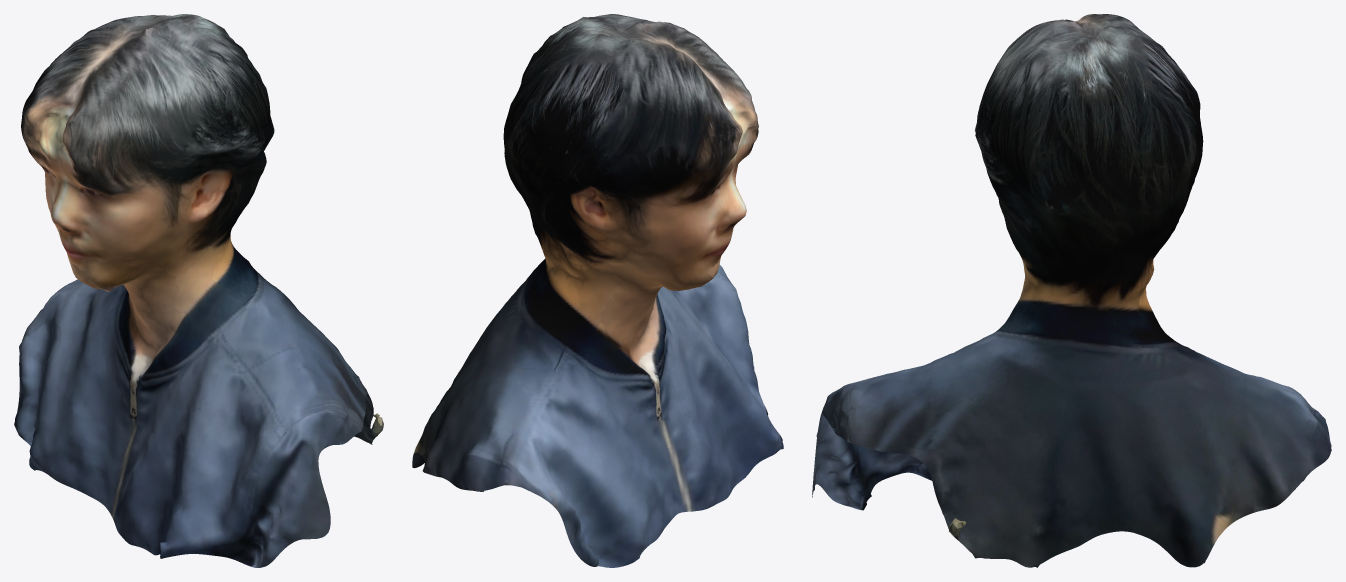
3 views of the same model, side by side, from view 1: azimuth 30°, elevation 25°; view 2: azimuth 150°, elevation 25°; view 3: azimuth 270°, elevation 25° (orthographic). The views are drawn at different scales.
Visible parts, largest first — view 1: face6; view 2: face6; view 3: face6.
Boxes of the visible parts, x1=… form: face6: x1=14, y1=14, x2=383, y2=567; face6: x1=412, y1=14, x2=783, y2=567; face6: x1=812, y1=14, x2=1331, y2=567.
Size of the model in its own units: 0.3243 by 0.5181 by 0.4847.
Materials: 1 (1 with a texture image).
